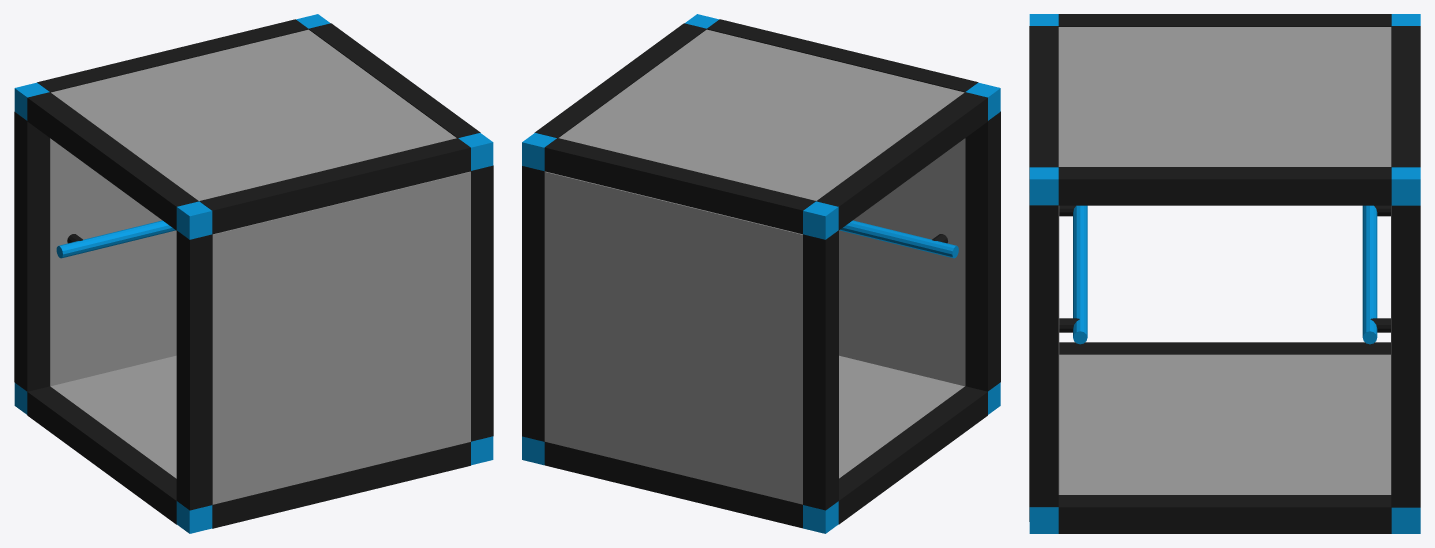
File: Coridor.obj
3 views of the same model, side by side, from view 1: azimuth 30°, elevation 25°; view 2: azimuth 150°, elevation 25°; view 3: azimuth 270°, elevation 25° (orthographic). The views are drawn at different scales.
Visible parts, largest first — view 1: group1710854897, group1005772507, group963054373, group1556195603, group1226622267, group966415300, group1070944959, group1138974461, group684207257, group2054616965, group709435993, group583785649 (+7 smaller); view 2: group963054373, group1005772507, group1710854897, group966415300, group583785649, group1556195603, group1070944959, group1138974461, group684207257, group1853298346, group62390541, group1226622267 (+7 smaller); view 3: group1070944959, group1005772507, group227590905, group538804669, group709435993, group62390541, group1138974461, group684207257, group1226622267, group583785649, group816366035, group1724738386 (+5 smaller).
Part boxes in pixels (box(x1,y1,x2,y2)): group1710854897: box(212, 171, 470, 504); group1005772507: box(51, 29, 456, 200); group963054373: box(50, 138, 176, 386); group1556195603: box(176, 230, 212, 510); group1226622267: box(199, 138, 470, 234); group966415300: box(14, 111, 49, 391); group1070944959: box(50, 355, 176, 478); group1138974461: box(27, 92, 198, 230); group684207257: box(27, 386, 176, 524); group2054616965: box(212, 442, 470, 528); group709435993: box(471, 165, 493, 441); group583785649: box(37, 19, 308, 92); group963054373: box(544, 171, 802, 504); group1005772507: box(559, 29, 964, 200); group1710854897: box(839, 138, 965, 386); group966415300: box(803, 230, 838, 510); group583785649: box(544, 138, 815, 234); group1556195603: box(965, 111, 1000, 391); group1070944959: box(839, 355, 964, 478); group1138974461: box(816, 92, 987, 229); group684207257: box(838, 386, 987, 524); group1853298346: box(544, 442, 802, 528); group62390541: box(522, 166, 544, 441); group1226622267: box(706, 19, 978, 92); group1070944959: box(1059, 354, 1390, 494); group1005772507: box(1058, 27, 1391, 166); group227590905: box(1058, 495, 1391, 533); group538804669: box(1058, 167, 1391, 205); group709435993: box(1029, 193, 1058, 507); group62390541: box(1391, 205, 1420, 507); group1138974461: box(1058, 14, 1391, 26); group684207257: box(1059, 342, 1390, 354); group1226622267: box(1029, 26, 1058, 192); group583785649: box(1391, 26, 1420, 167); group816366035: box(1362, 205, 1377, 344); group1724738386: box(1073, 205, 1087, 344).
Size of the model in its own units: 0.5409 by 0.5413 by 0.5404.
